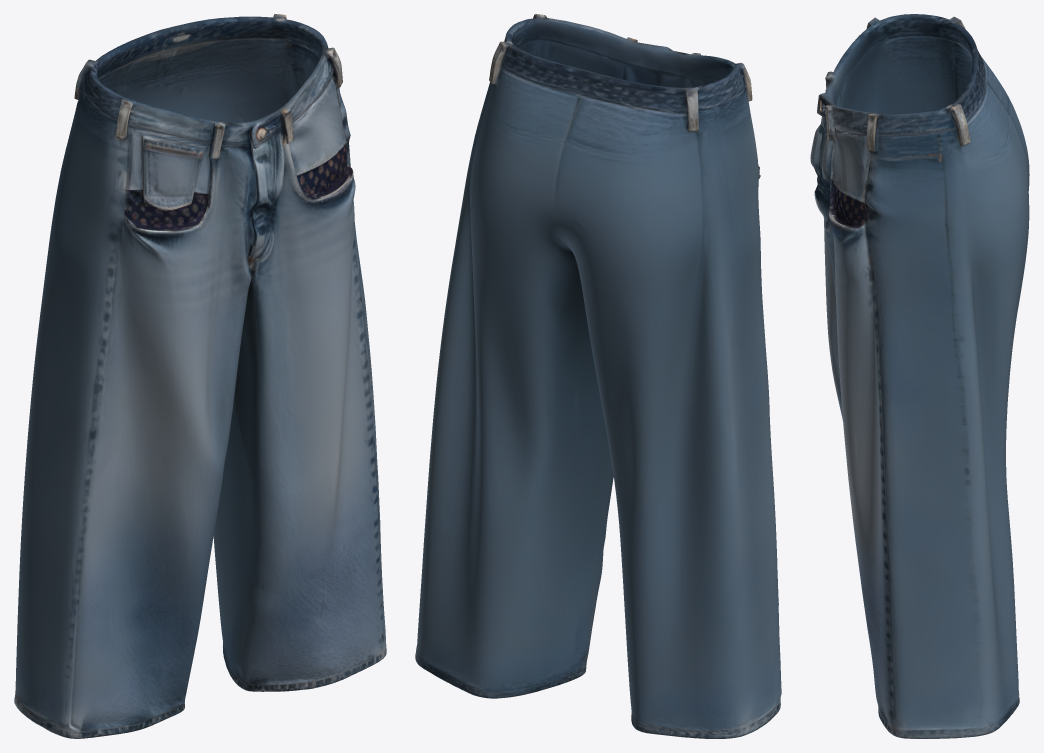
File: jeans-checked.glb
3 views of the same model, side by side, from view 1: azimuth 30°, elevation 25°; view 2: azimuth 150°, elevation 25°; view 3: azimuth 270°, elevation 25° (orthographic). The views are drawn at different scales.
Parts seen in each view (by area): view 1: node_0; view 2: node_0; view 3: node_0.
Boxes of the visible parts, <box> form: node_0: <box>14,14,386,738</box>; node_0: <box>415,14,781,738</box>; node_0: <box>810,14,1029,738</box>.
Size of the model in its own units: 0.5913 by 1.07 by 0.35.
1 material, 1 textured.
